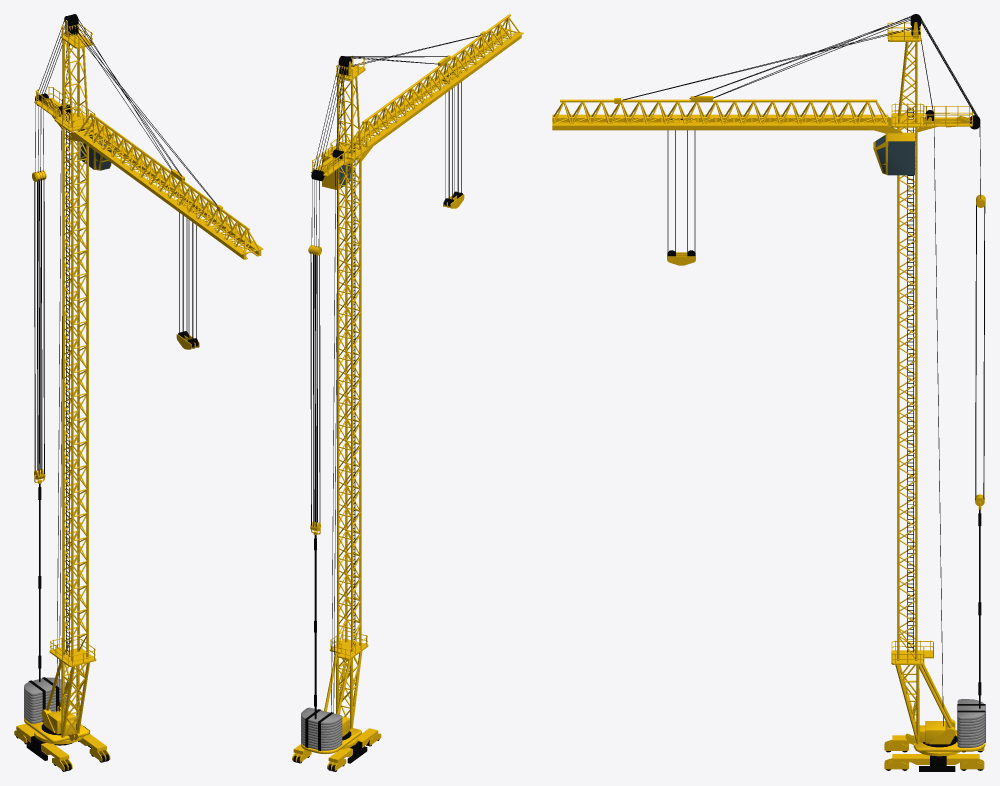
File: tower_crane.fbx
3 renders of one model, left to right at view 1: azimuth 30°, elevation 25°; view 2: azimuth 150°, elevation 25°; view 3: azimuth 270°, elevation 25°, orthographic. The views are drawn at different scales.
Parts seen in each view (by area): view 1: tower_crane; view 2: tower_crane; view 3: tower_crane.
Boxes of the visible parts, <box> form: tower_crane: <box>14,14,263,771</box>; tower_crane: <box>292,14,523,771</box>; tower_crane: <box>552,14,985,771</box>.
Bounding box in the file's own units: 568 × 7890 × 4168.
